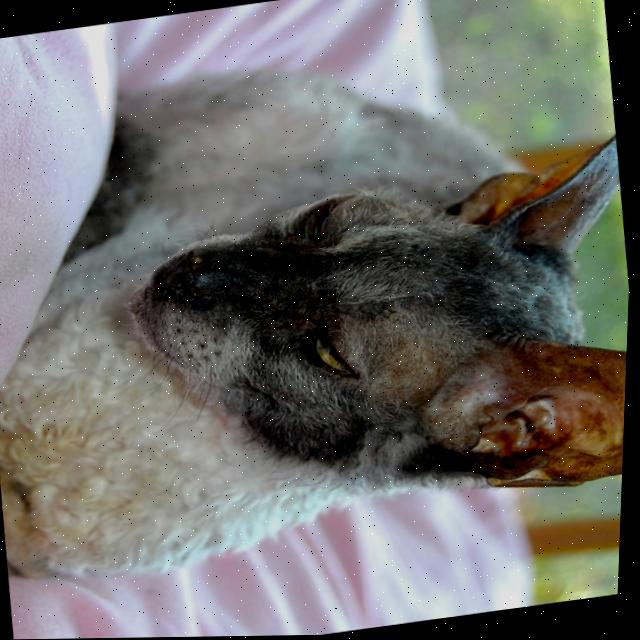Cornish Rex: (0, 14, 639, 597)
